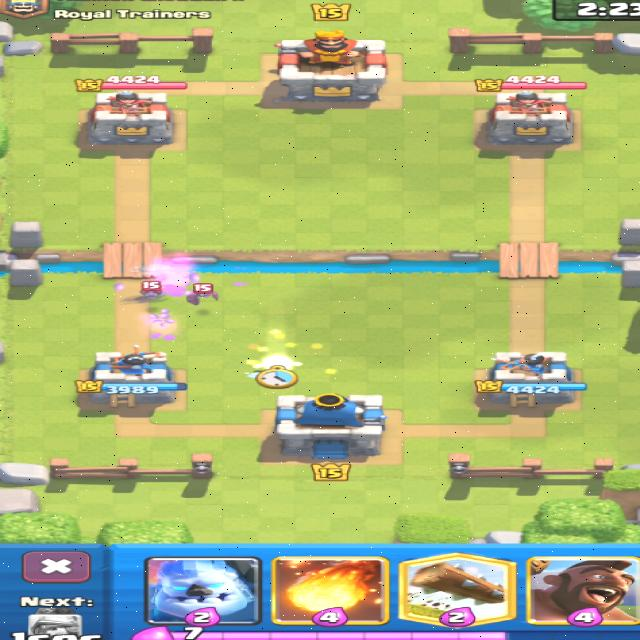Enemy-Bat: (186, 284, 217, 305), (140, 279, 161, 298)
Enemy-KingTower: (278, 30, 386, 101)
Enemy-PrincessTower: (487, 91, 571, 144), (89, 90, 171, 144)
Player-IceSpirit: (252, 355, 301, 368)
Player-KingTower: (275, 393, 385, 458)
Player-PrincessTower: (76, 345, 186, 407), (477, 352, 585, 407)
